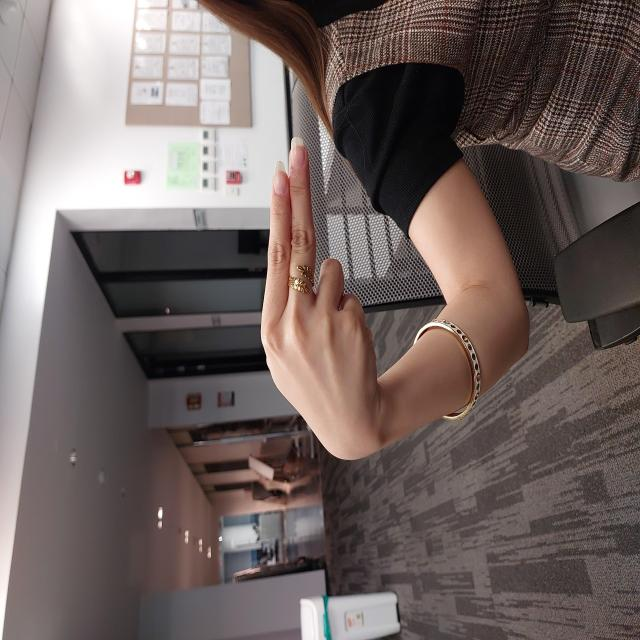H: (176, 258, 504, 384)
